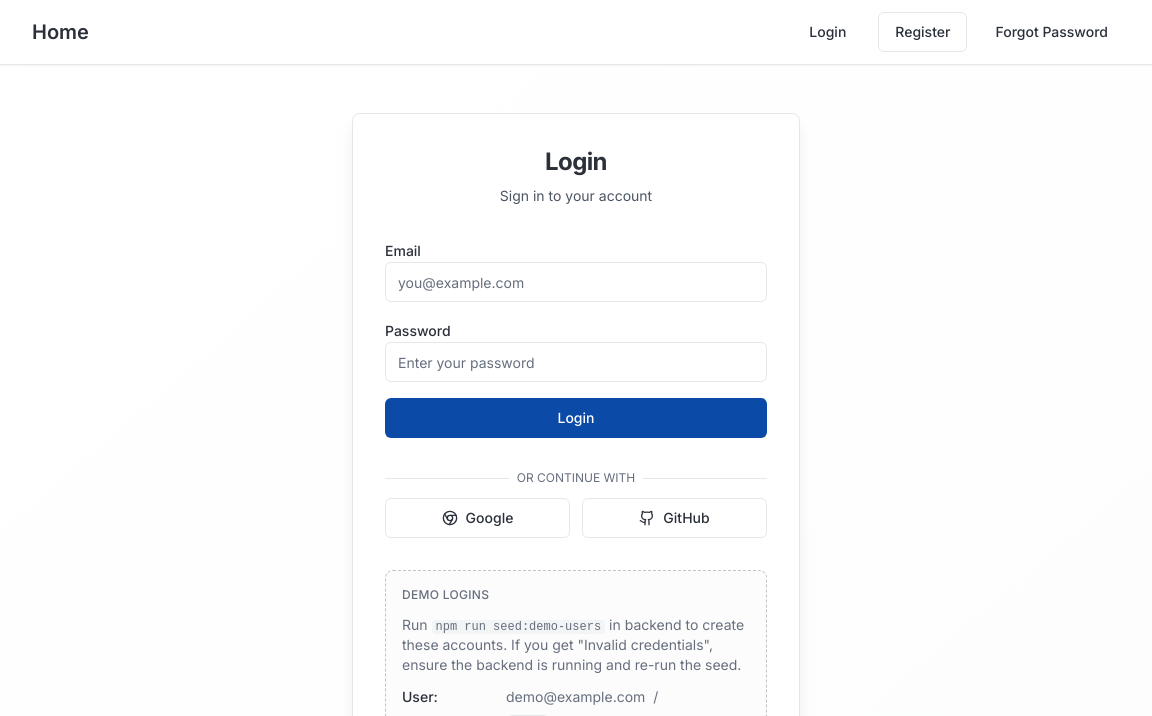
Test: Login Page › should disable submit button while submitting
Type "test@example.com" into the field labelled "Email" at point(576, 282), box x1=385 y1=262 x2=767 y2=302
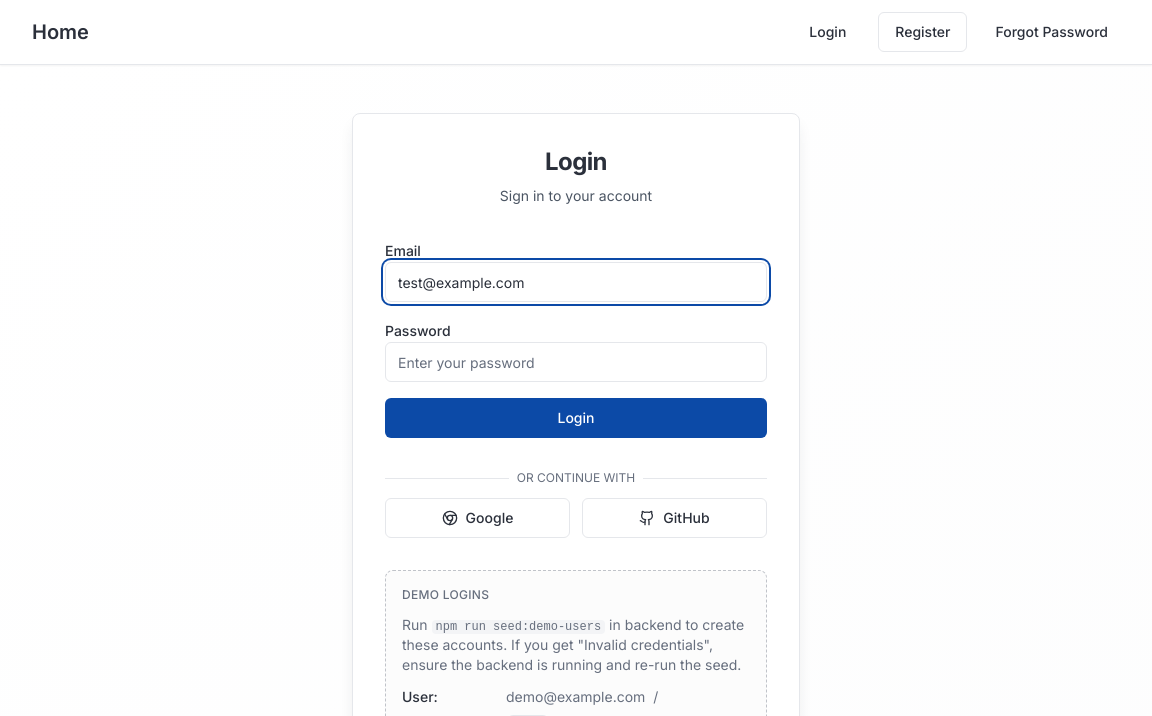
Type "Password123!" into the password field labelled "Password" at point(576, 362), box x1=385 y1=342 x2=767 y2=382
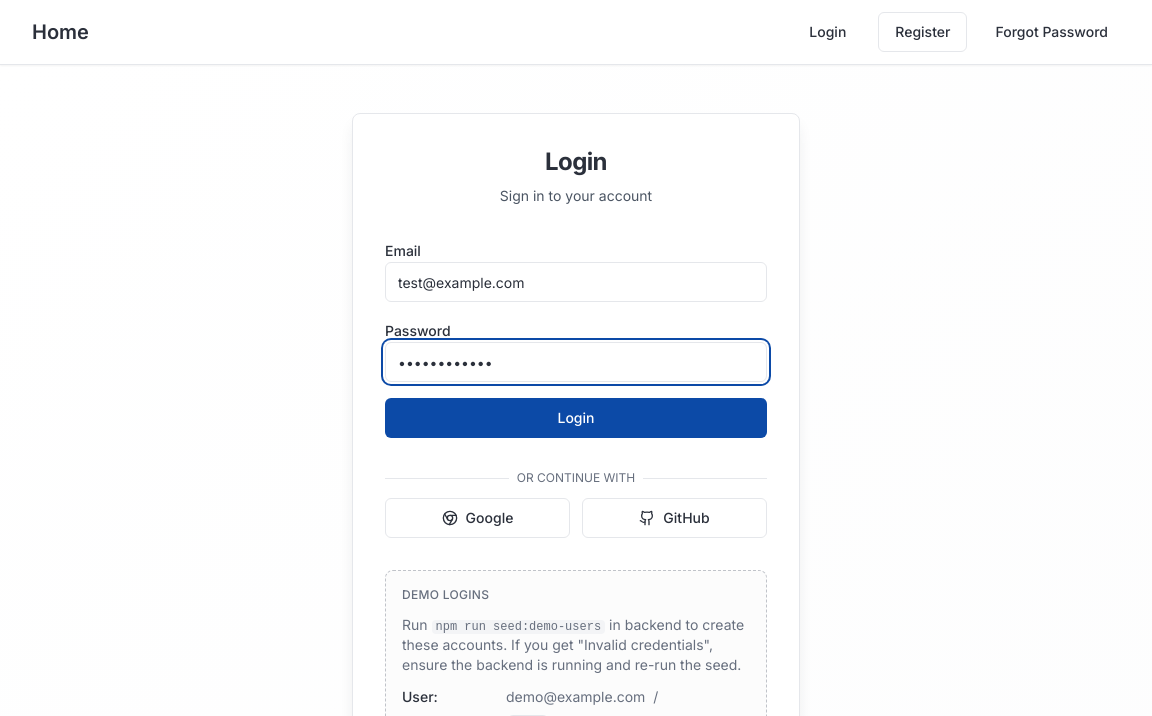
Click the button "Login" at point(576, 418), box x1=385 y1=398 x2=767 y2=438
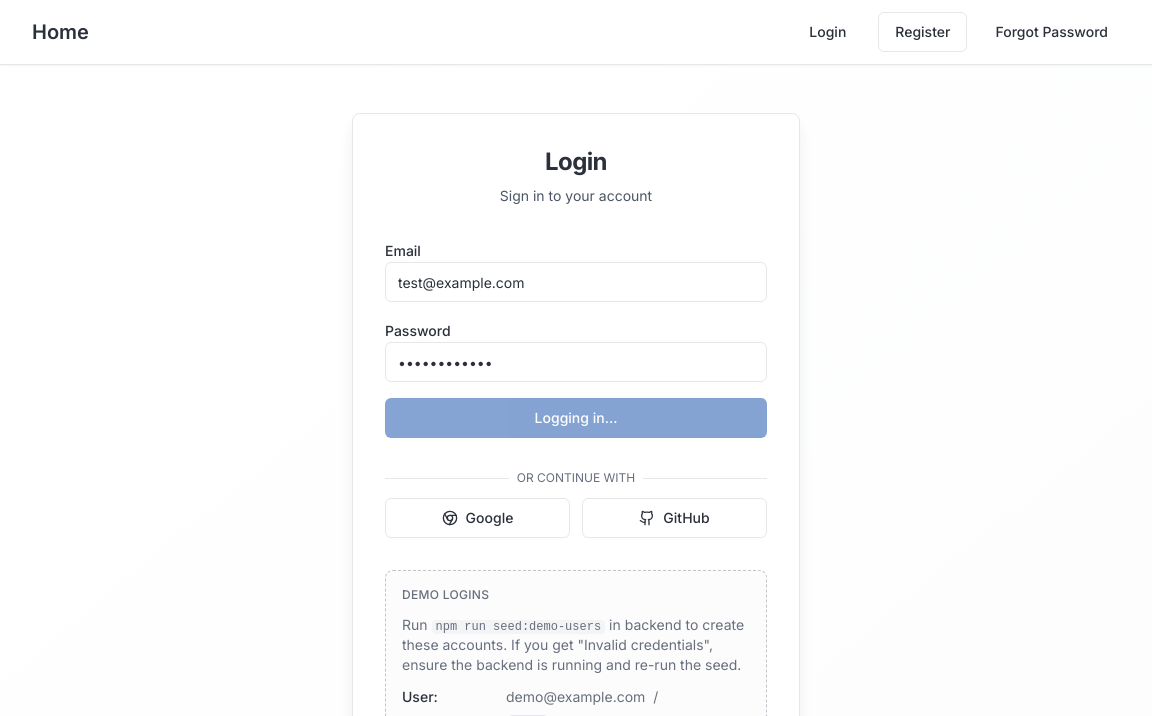
Check: the button named "login" is disabled, box x1=385 y1=398 x2=767 y2=438
